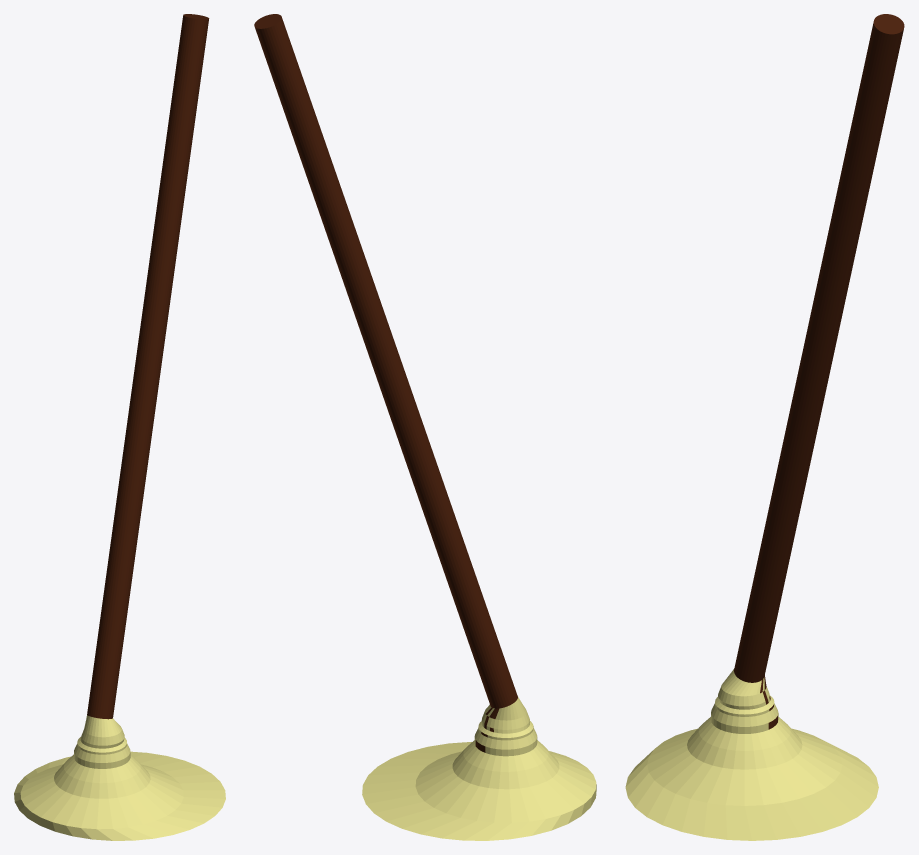
The model's file is mop.fbx.
3 views of the same model, side by side, from view 1: azimuth 30°, elevation 25°; view 2: azimuth 150°, elevation 25°; view 3: azimuth 270°, elevation 25° (orthographic). The views are drawn at different scales.
Parts seen in each view (by area): view 1: Walec; view 2: Walec; view 3: Walec.
Boxes of the visible parts, box(x1,y1,x2,y2) form: Walec: box(14, 14, 225, 840); Walec: box(254, 14, 596, 840); Walec: box(625, 14, 904, 840).
Bounding box in the file's own units: 947 × 2709 × 810.
